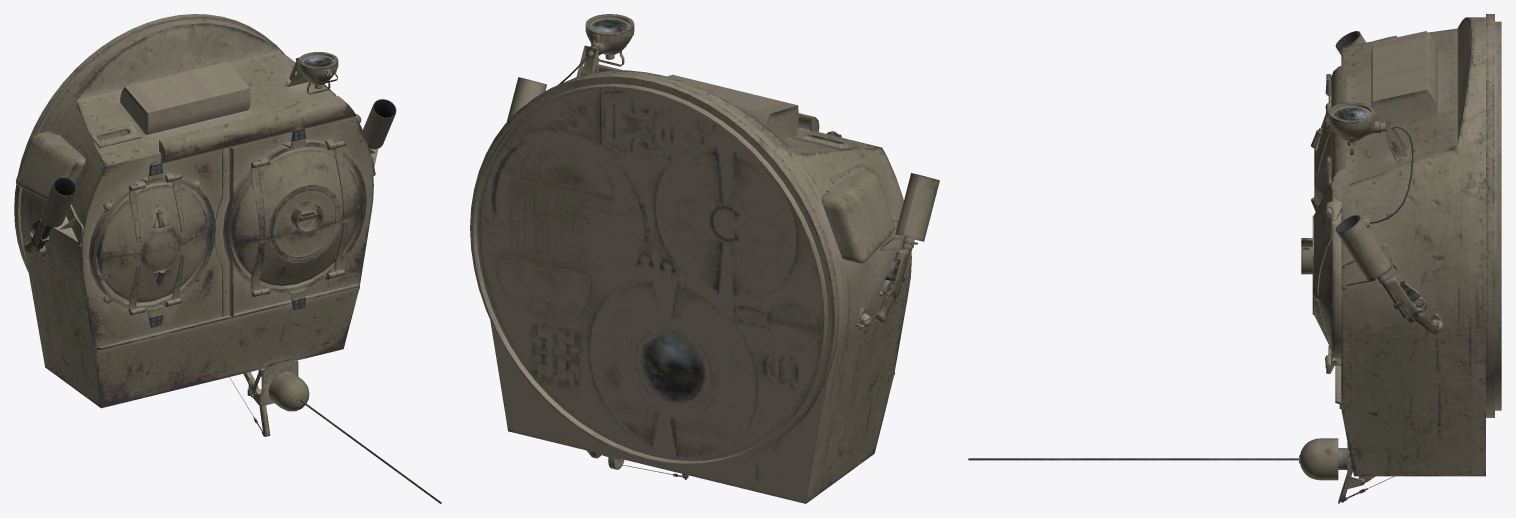
Rendered from Turret_01.glb.
3 renders of one model, left to right at view 1: azimuth 30°, elevation 25°; view 2: azimuth 150°, elevation 25°; view 3: azimuth 270°, elevation 25°, orthographic. The views are drawn at different scales.
Parts seen in each view (by area): view 1: set_0_group_0; view 2: set_0_group_0; view 3: set_0_group_0.
Part boxes in pixels (x1,y1,x2,y2): set_0_group_0: (14, 14, 441, 503); set_0_group_0: (470, 14, 939, 503); set_0_group_0: (968, 14, 1501, 503).
Bounding box in the file's own units: 1.68 × 1.79 × 1.93.
1 material, 1 textured.
